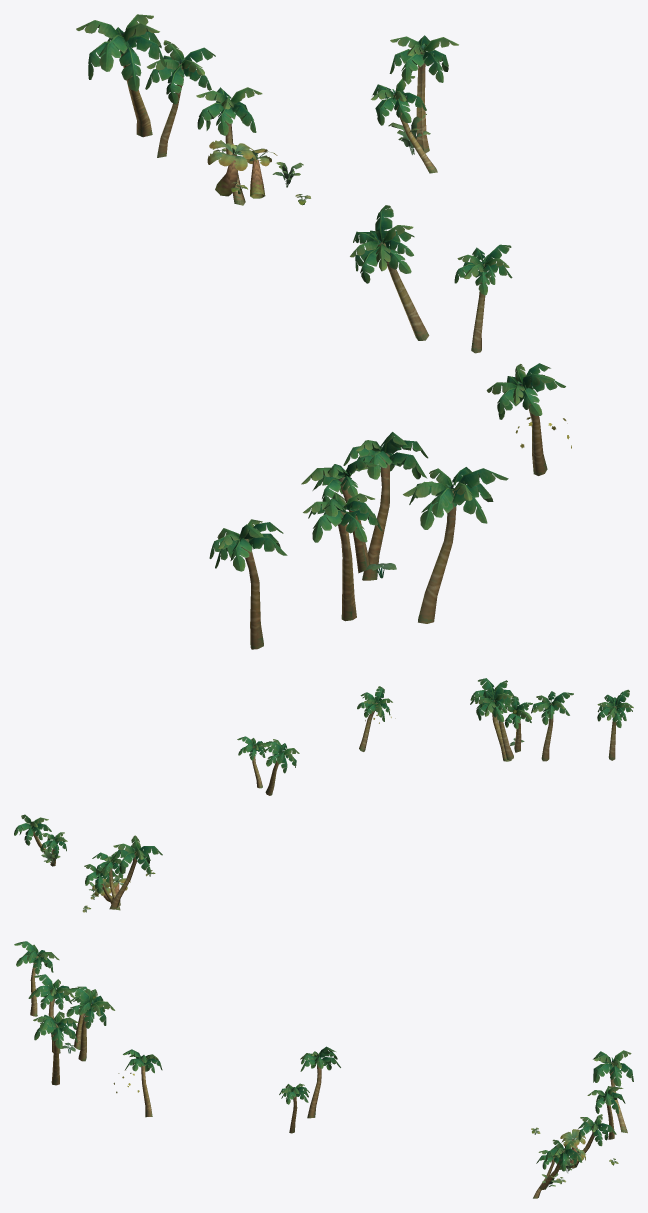
File: pref_sm_beach_bk_pointmol_lefttree_lv1.fbx
The picture shows the model from 3 angles, top to bottom: view 1: azimuth 30°, elevation 25°; view 2: azimuth 150°, elevation 25°; view 3: azimuth 270°, elevation 25°; orthographic projection. The views are drawn at different scales.
Parts seen in each view (by area): view 1: pref_sm_beach_bk_pointmol_lefttree_lv1; view 2: pref_sm_beach_bk_pointmol_lefttree_lv1; view 3: pref_sm_beach_bk_pointmol_lefttree_lv1.
Part boxes in pixels (<box>): pref_sm_beach_bk_pointmol_lefttree_lv1: <box>76,14,571,649</box>; pref_sm_beach_bk_pointmol_lefttree_lv1: <box>14,678,633,912</box>; pref_sm_beach_bk_pointmol_lefttree_lv1: <box>14,941,633,1198</box>.
Bounding box in the file's own units: 43.32 × 10.79 × 59.61.
